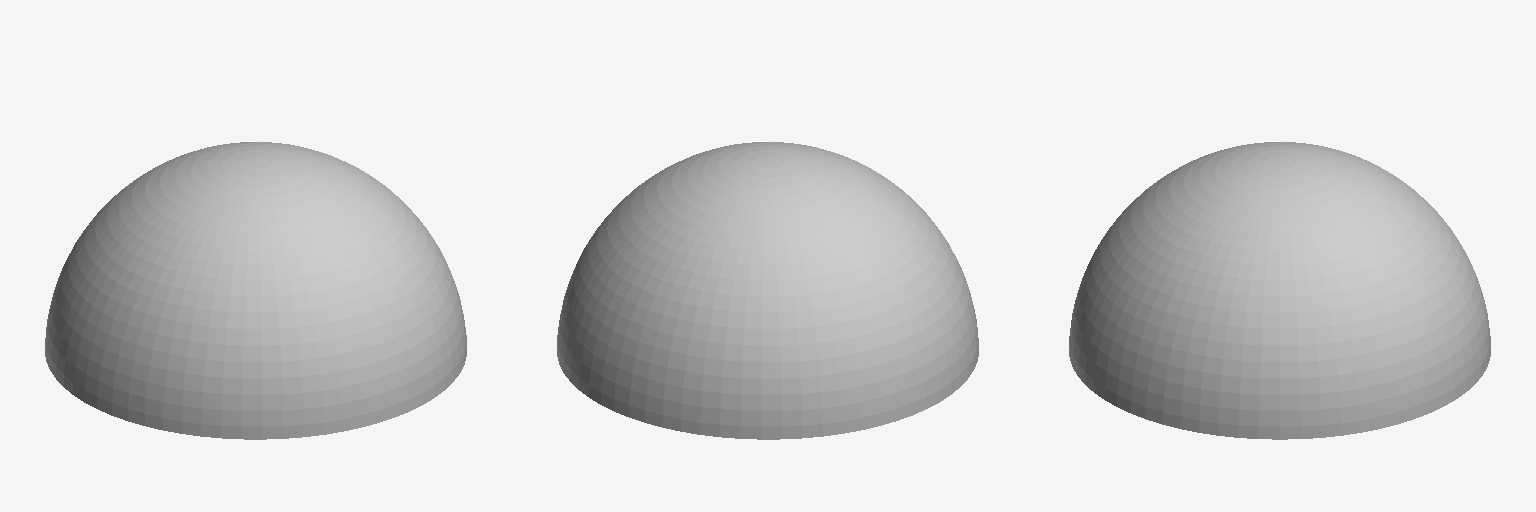
File: halfsphere_h_7cm.obj
The picture shows the model from 3 angles: view 1: azimuth 30°, elevation 25°; view 2: azimuth 150°, elevation 25°; view 3: azimuth 270°, elevation 25°; orthographic projection.
Visible parts, largest first — view 1: Sphere_Sphere.004; view 2: Sphere_Sphere.004; view 3: Sphere_Sphere.004.
Boxes of the visible parts, box(x1,y1,x2,y2) form: Sphere_Sphere.004: box(45, 142, 466, 439); Sphere_Sphere.004: box(557, 142, 978, 439); Sphere_Sphere.004: box(1069, 142, 1490, 439).
Bounding box in the file's own units: 0.1399 × 0.069 × 0.1399.